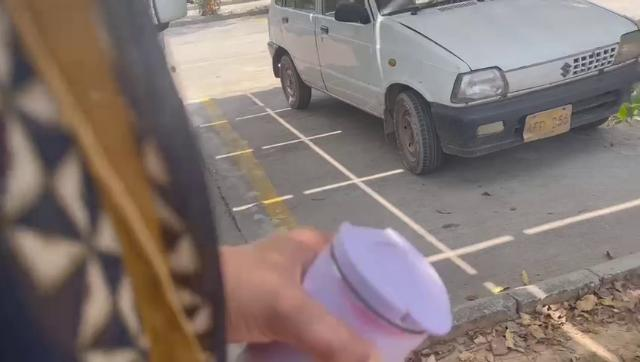plate: (520, 102, 578, 142)
